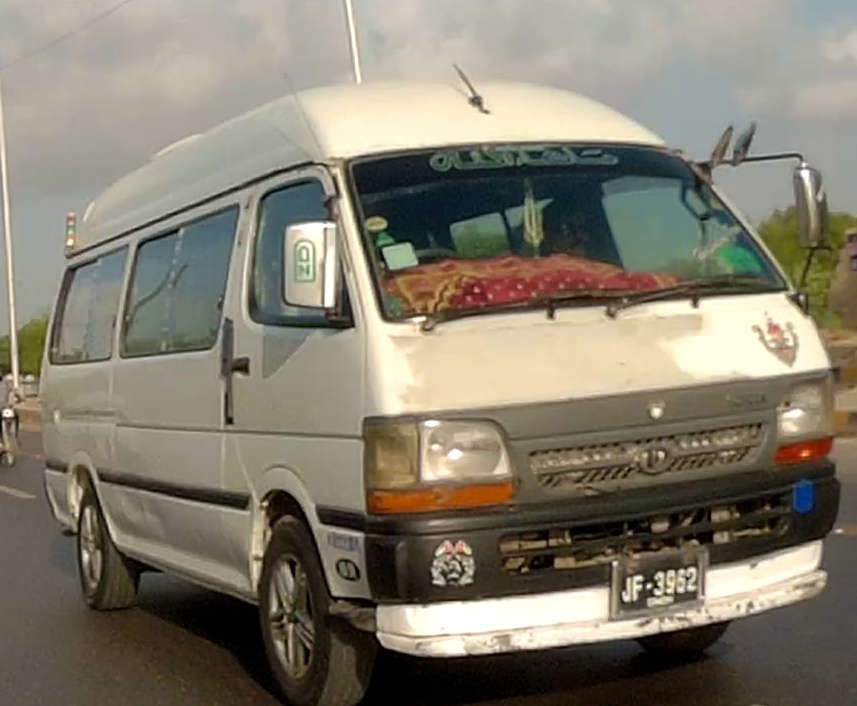van: (39, 78, 841, 706)
